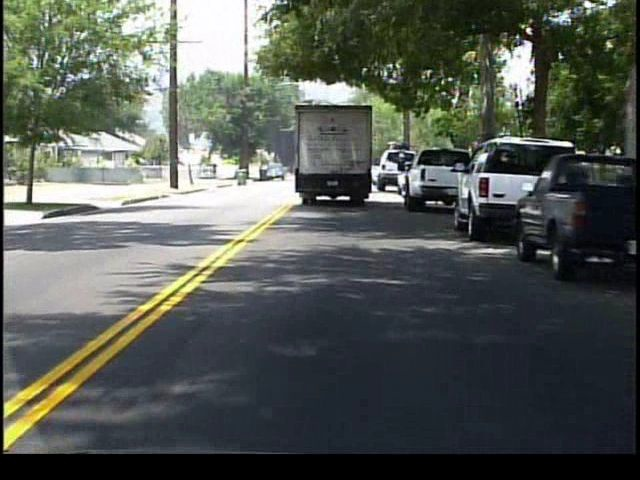person: (213, 162, 222, 183)
